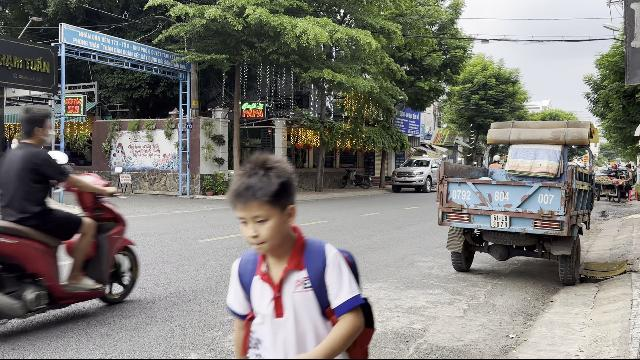motorcyclist: (0, 101, 142, 335)
nohelmet: (16, 105, 54, 147)
